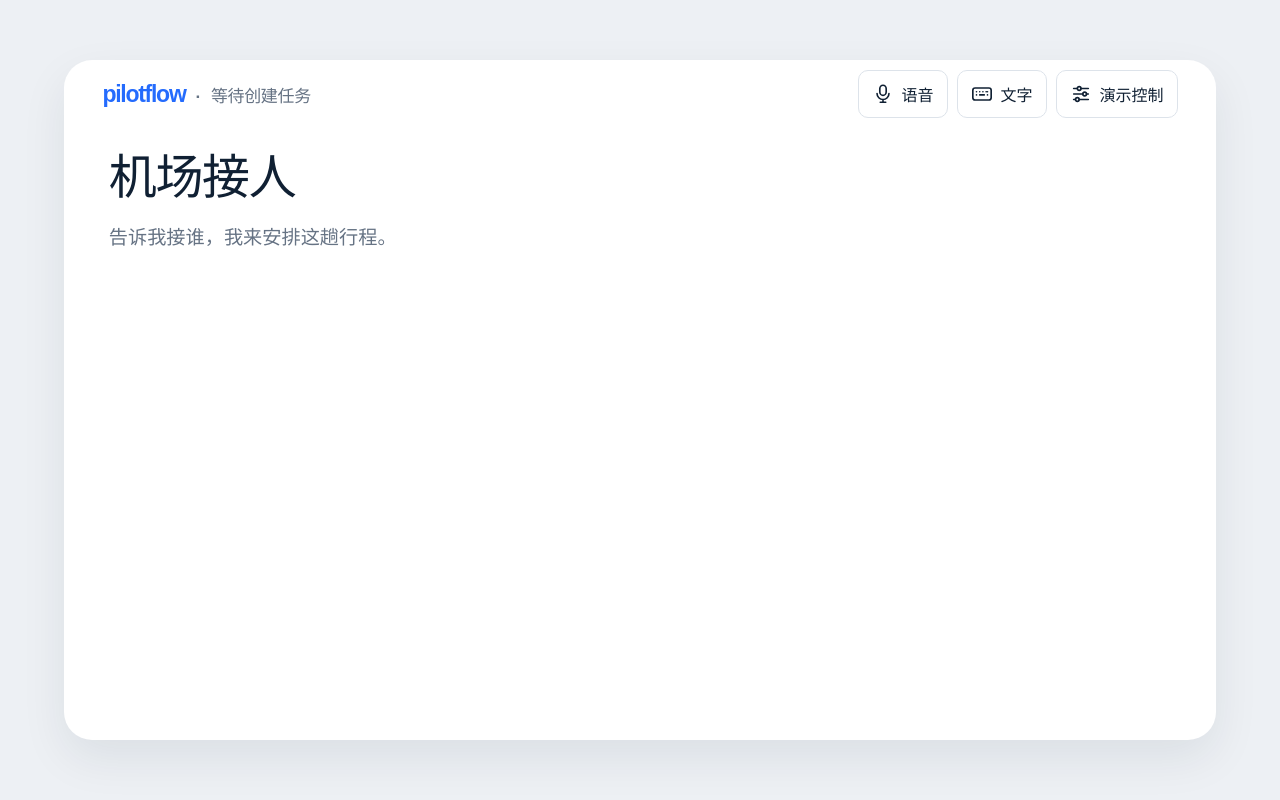
demo integration › voice input › explains a denied microphone and leaves the text path working
Click the button with aria-label "开始语音输入". click: x=903, y=94
box: [858,70,948,118]
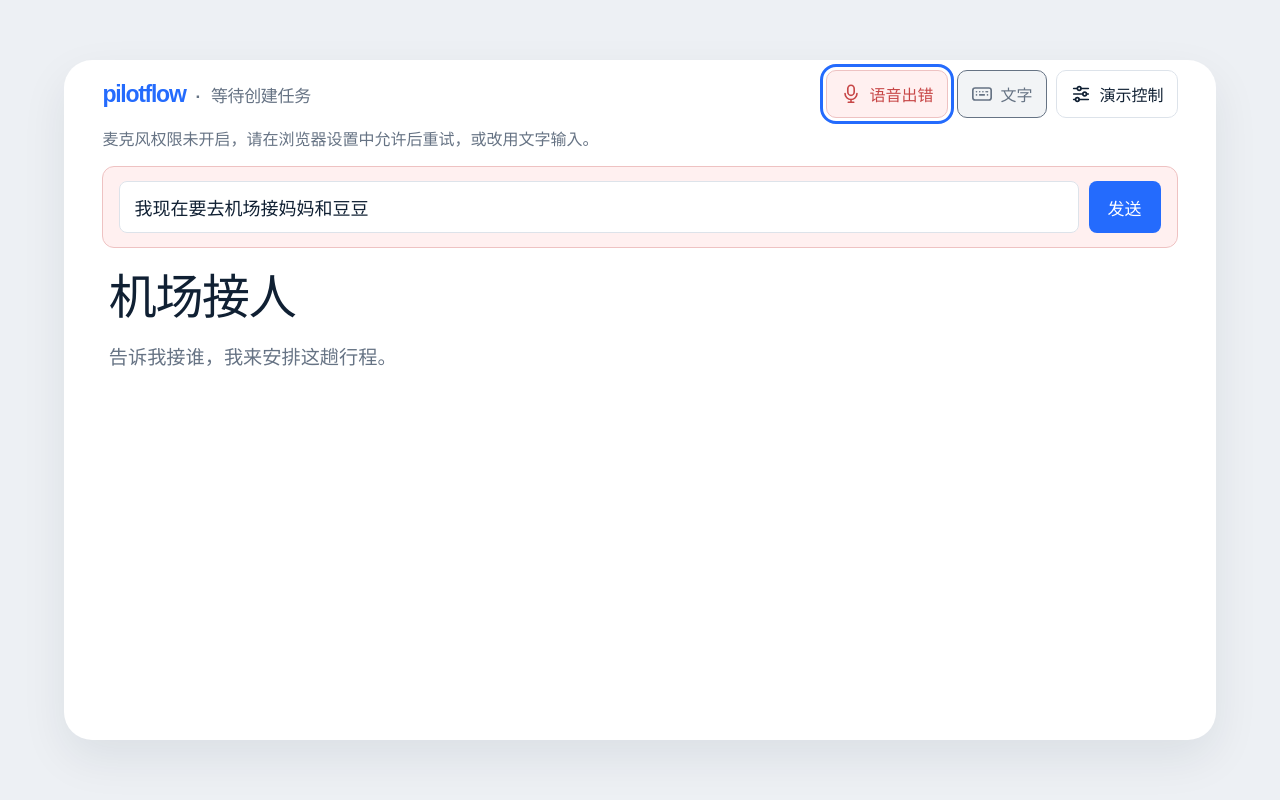
expect the message named "语音状态" shows "麦克风权限未开启": met, box [102,131,598,148]
expect the button with aria-label "重试语音输入" reads "语音出错": met, box [826,70,948,118]
# The text field never became unusable, so the turn can still be completed.
Click the button "发送". click: x=1125, y=207
box: [1089,181,1161,233]
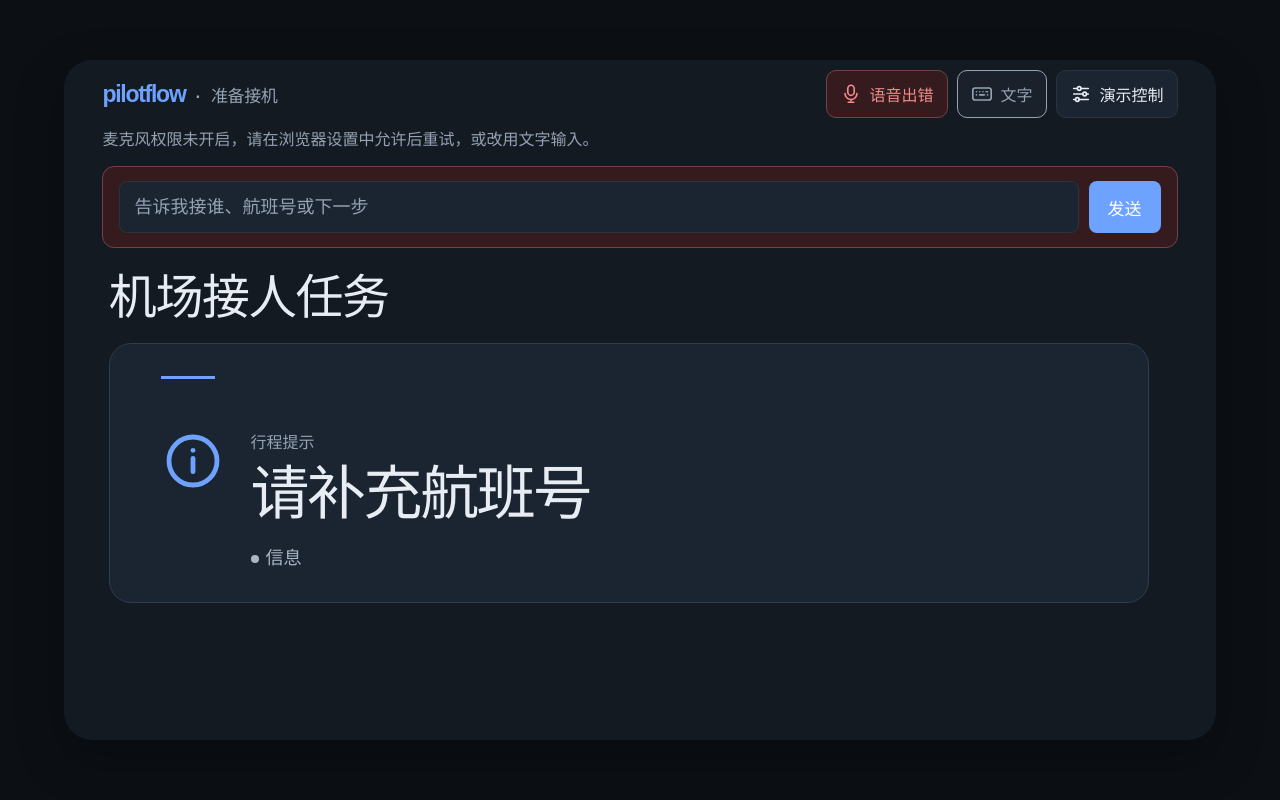
expect the text "准备接机" is shown: met, box [211,82,278,106]
